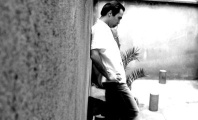male: (101, 3, 126, 34)
